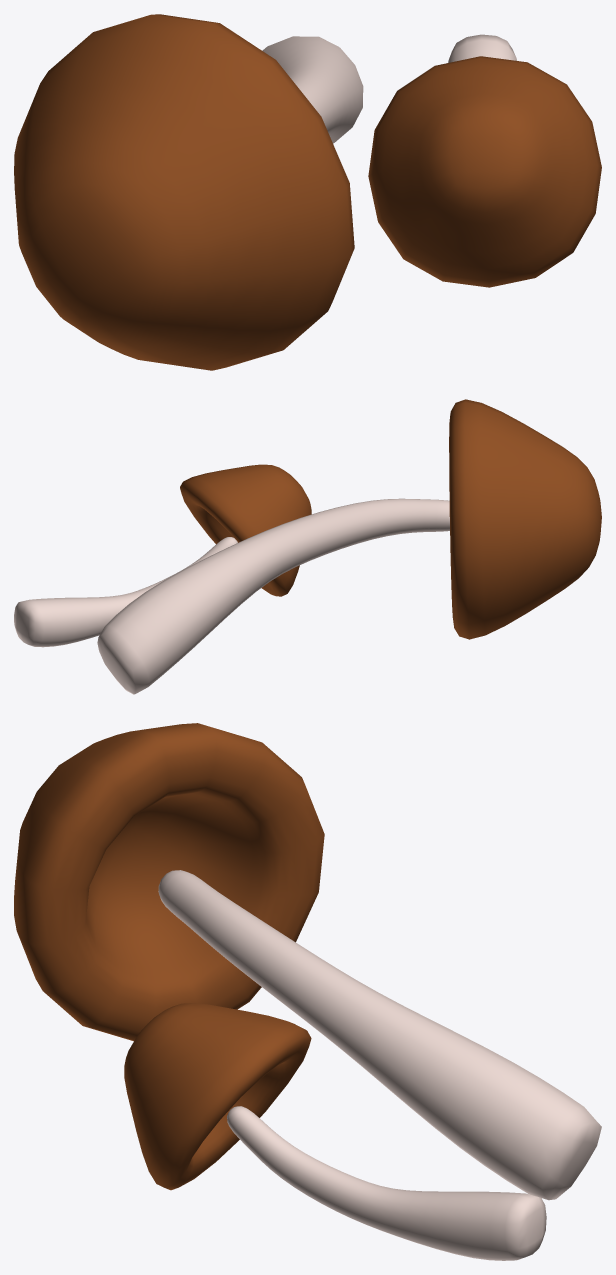
Rendered from market-mashrooms1.fbx.
3 renders of one model, top to bottom at view 1: azimuth 30°, elevation 25°; view 2: azimuth 150°, elevation 25°; view 3: azimuth 270°, elevation 25°, orthographic. The views are drawn at different scales.
Visible parts, largest first — view 1: Cube.156; view 2: Cube.156; view 3: Cube.156.
Part boxes in pixels (x1=…): Cube.156: x1=14, y1=14, x2=601, y2=370; Cube.156: x1=14, y1=399, x2=601, y2=694; Cube.156: x1=14, y1=723, x2=601, y2=1260.
Bounding box in the file's own units: 88.99 × 44.48 × 72.08.
